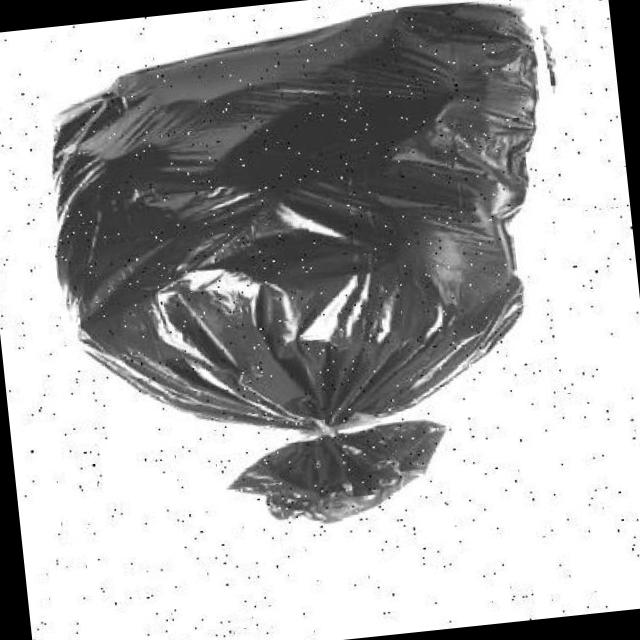KantongPlastik: (31, 0, 584, 551)
